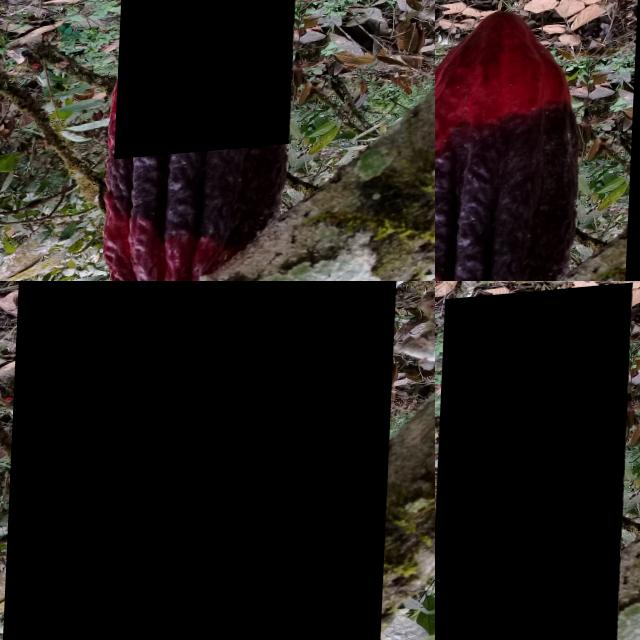Fitoftora: (6, 281, 403, 640), (435, 290, 634, 640), (117, 0, 303, 164)
